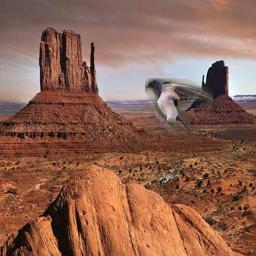Swallow: (145, 78, 213, 138)
